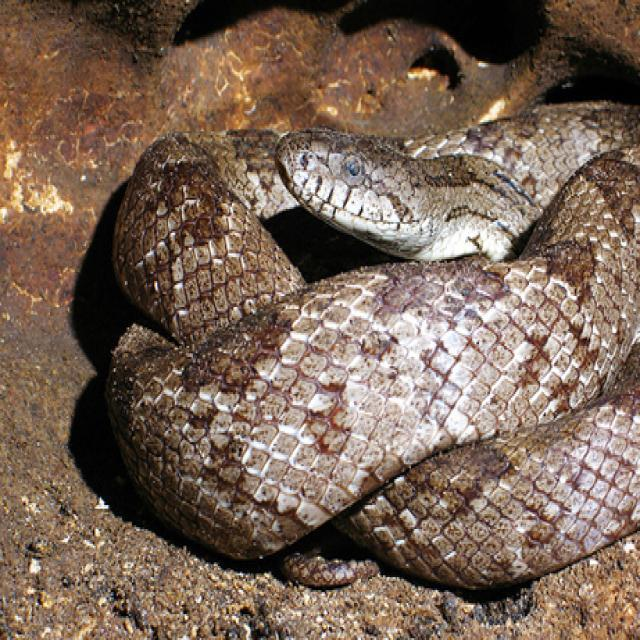Snake: (104, 98, 639, 592)
